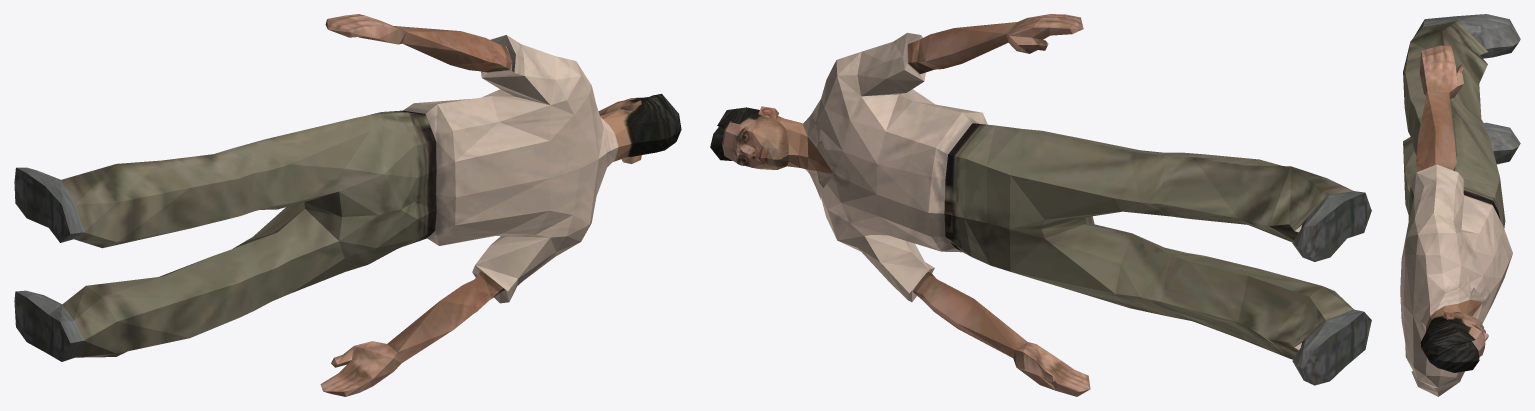
The model's file is lapdpc.obj.
3 views of the same model, side by side, from view 1: azimuth 30°, elevation 25°; view 2: azimuth 150°, elevation 25°; view 3: azimuth 270°, elevation 25° (orthographic). The views are drawn at different scales.
Parts seen in each view (by area): view 1: noname_0; view 2: noname_0; view 3: noname_0.
Boxes of the visible parts, bbox=[...] form: noname_0: bbox=[14, 14, 681, 396]; noname_0: bbox=[710, 14, 1371, 396]; noname_0: bbox=[1400, 14, 1520, 396].
Size of the model in its own units: 1.84 by 1.03 by 0.3476.
1 material, 1 textured.
